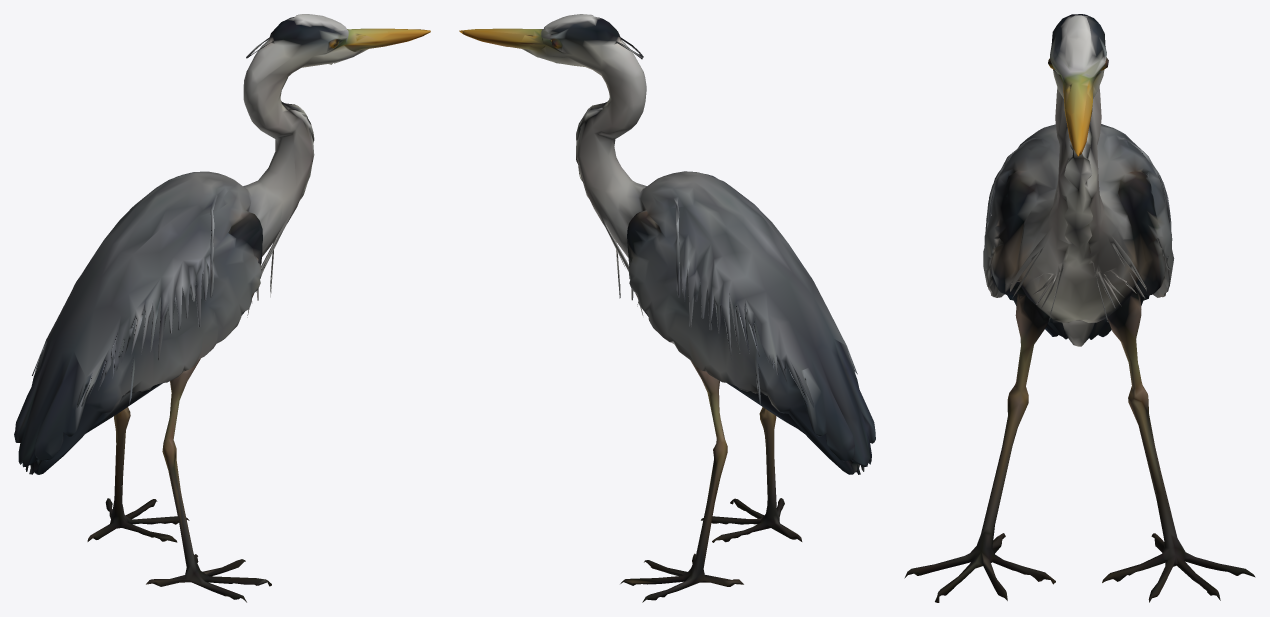
File: garza.glb
The picture shows the model from 3 angles, left to right: view 1: azimuth 30°, elevation 25°; view 2: azimuth 150°, elevation 25°; view 3: azimuth 270°, elevation 25°; orthographic projection. The views are drawn at different scales.
Parts seen in each view (by area): view 1: fauna/garza.glb; view 2: fauna/garza.glb; view 3: fauna/garza.glb.
Part boxes in pixels (box(x1,y1,x2,y2)): fauna/garza.glb: box(14, 14, 430, 602); fauna/garza.glb: box(459, 14, 875, 602); fauna/garza.glb: box(904, 14, 1255, 602).
Bounding box in the file's own units: 0.9996 × 1.18 × 0.5895.
